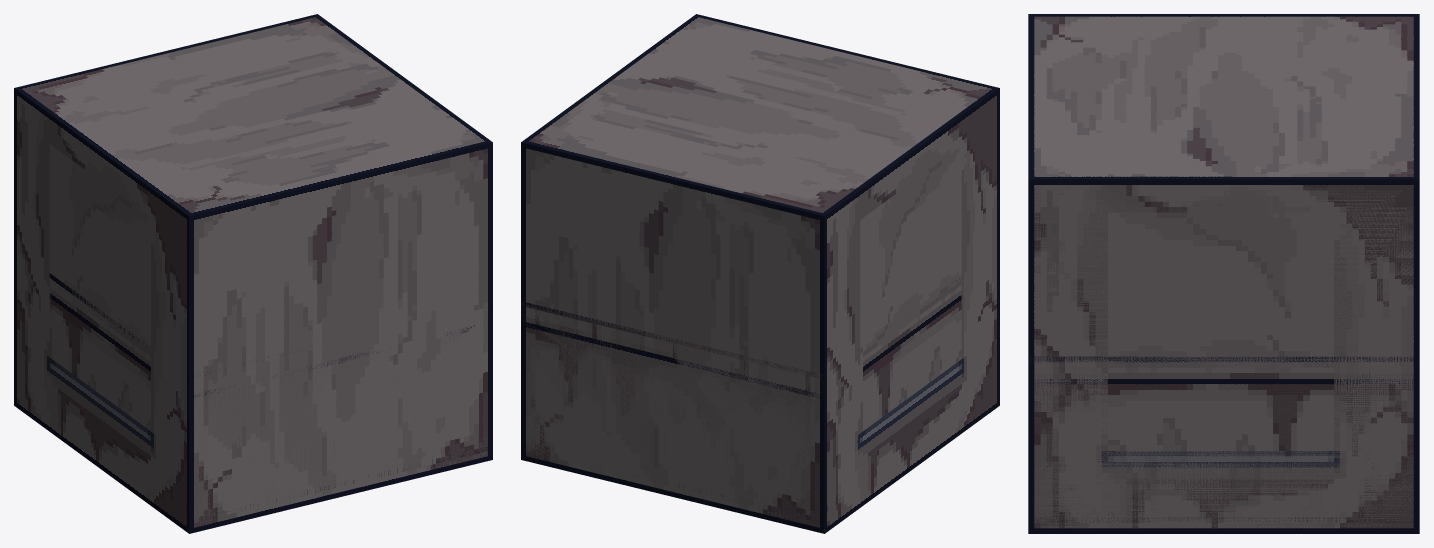
Rendered from 64x64-building-tiles.glb.
3 renders of one model, left to right at view 1: azimuth 30°, elevation 25°; view 2: azimuth 150°, elevation 25°; view 3: azimuth 270°, elevation 25°, orthographic. The views are drawn at different scales.
Parts seen in each view (by area): view 1: building-1-col, building-3-col, roof-1-col, balcony-col; view 2: building-1-col, building-3-col, roof-1-col, balcony-col; view 3: building-1-col, building-3-col, roof-1-col, balcony-col.
Boxes of the visible parts, box(x1,y1,x2,y2) form: building-1-col: box(14, 14, 492, 533); building-3-col: box(14, 16, 492, 532); roof-1-col: box(49, 273, 492, 532); balcony-col: box(191, 307, 490, 530); building-1-col: box(521, 14, 999, 533); building-3-col: box(521, 15, 999, 532); roof-1-col: box(521, 278, 961, 532); balcony-col: box(521, 302, 824, 530); building-1-col: box(1028, 14, 1419, 533); building-3-col: box(1028, 14, 1419, 533); roof-1-col: box(1028, 356, 1419, 533); balcony-col: box(1028, 356, 1419, 533).
Size of the model in its own units: 6.4 by 6.4 by 6.4.
Materials: 1 (1 with a texture image).
